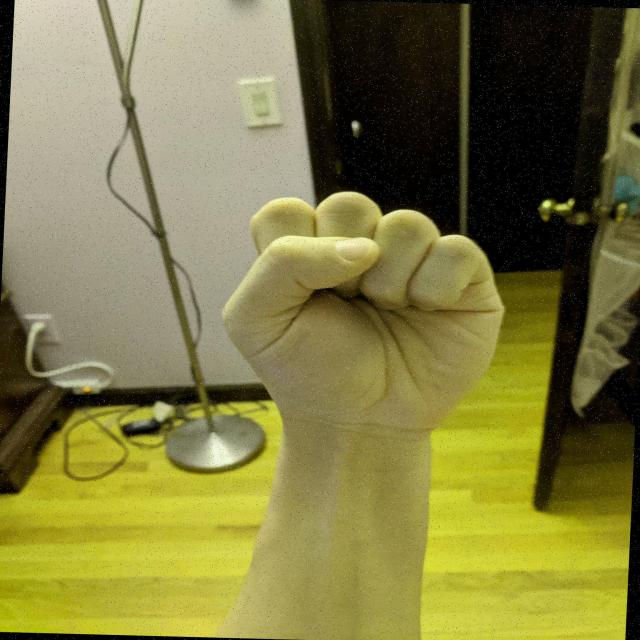S: (210, 181, 518, 437)
